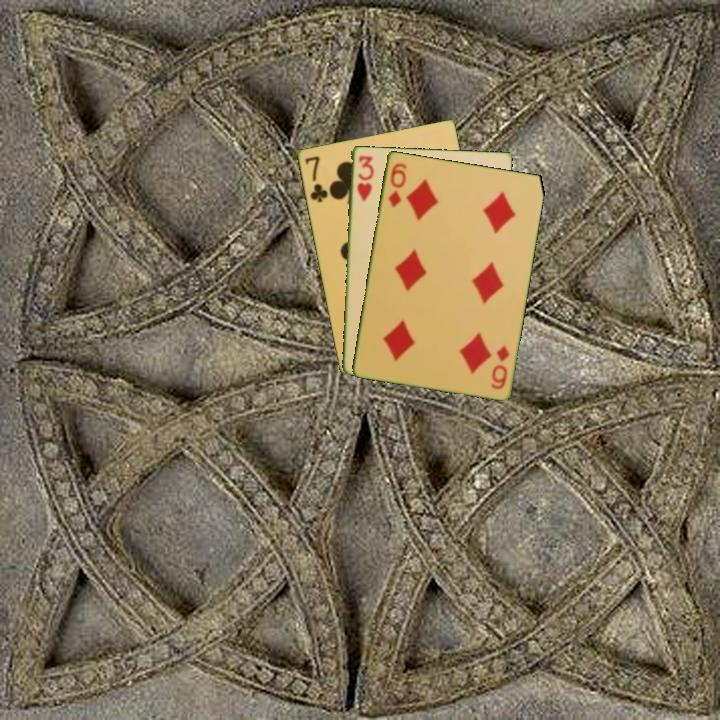3h: (353, 152, 376, 204)
6d: (384, 159, 409, 210), (487, 341, 512, 392)
7c: (301, 152, 330, 205)
